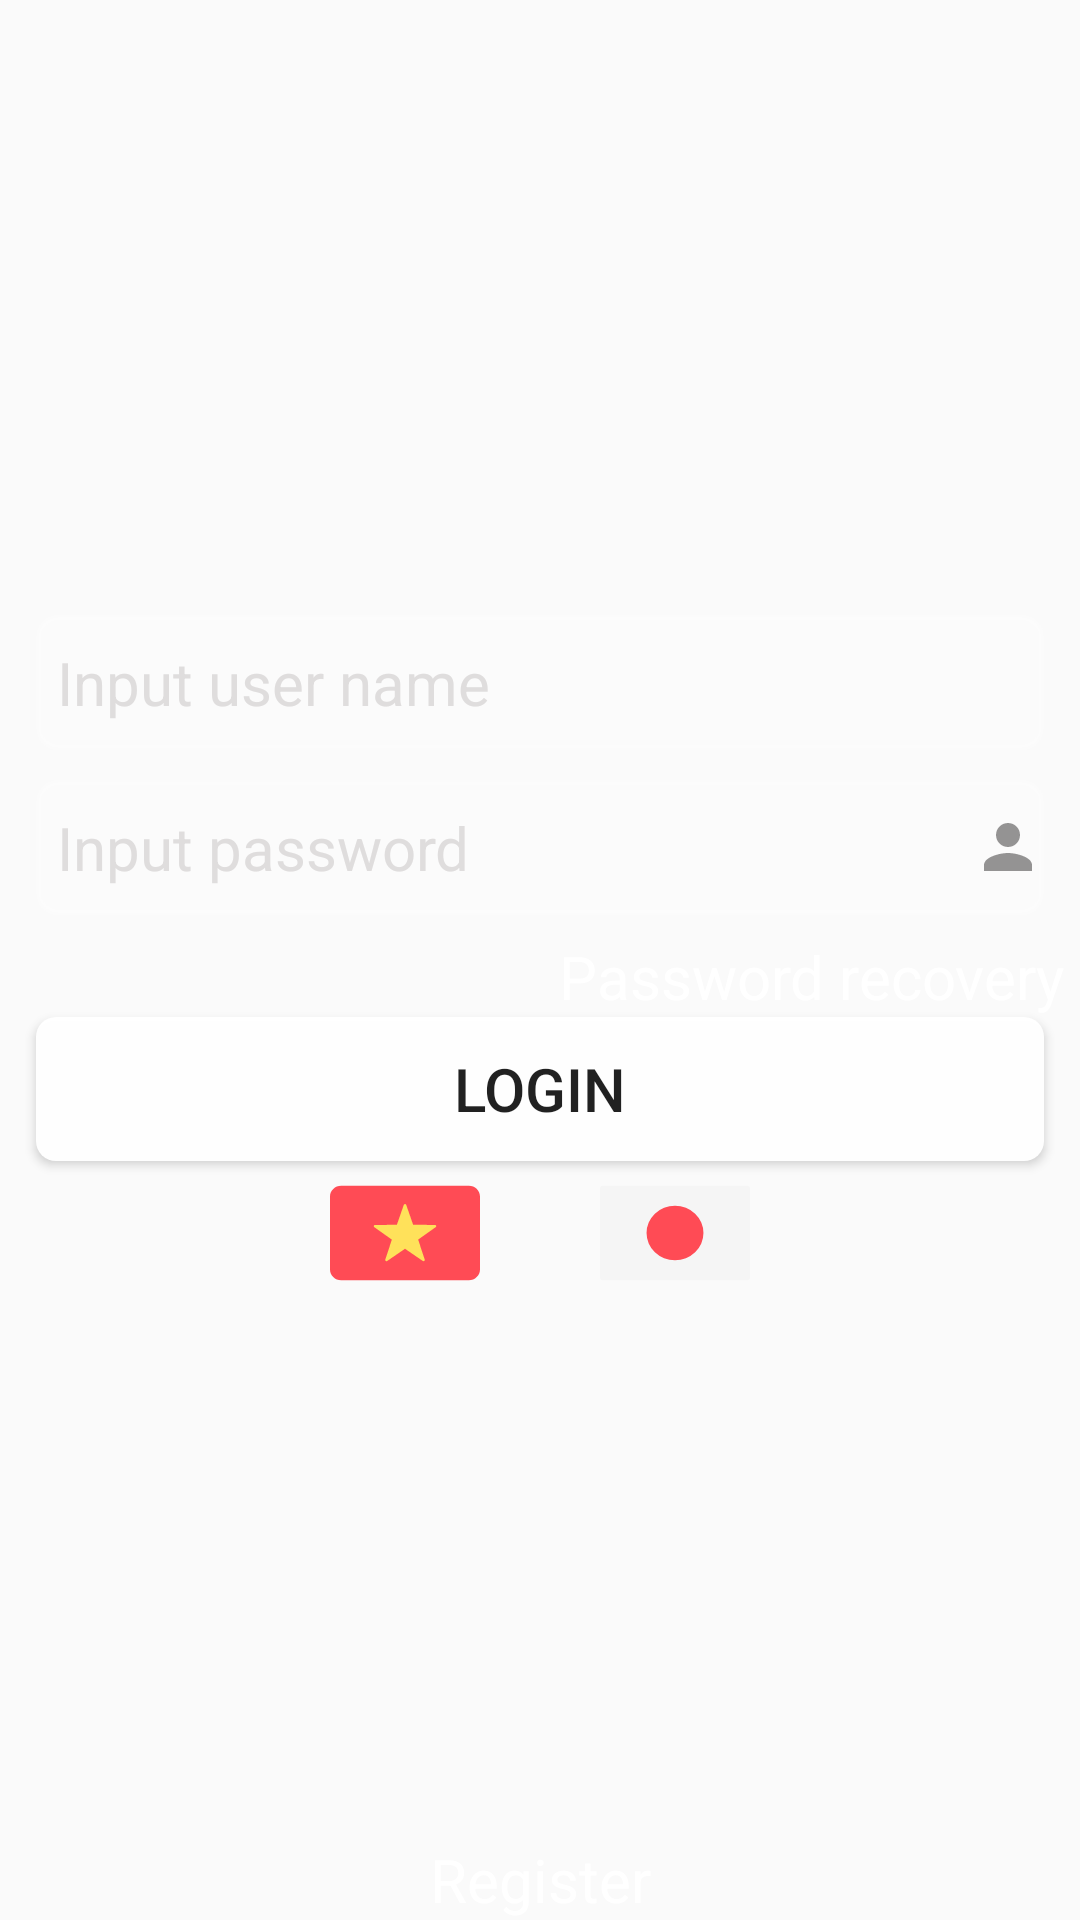

Named icons in this screenshot (1080 x 1920) and their centers, (x,y):
vietnam: (405,1233)
